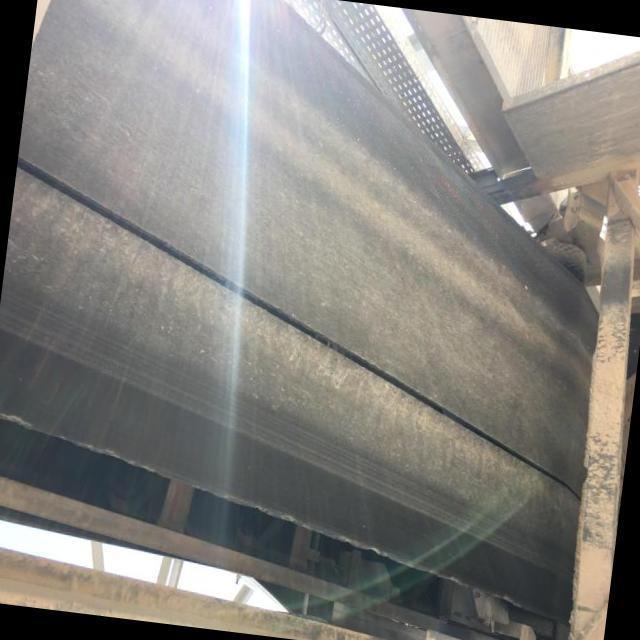Tear: (12, 150, 640, 542)
